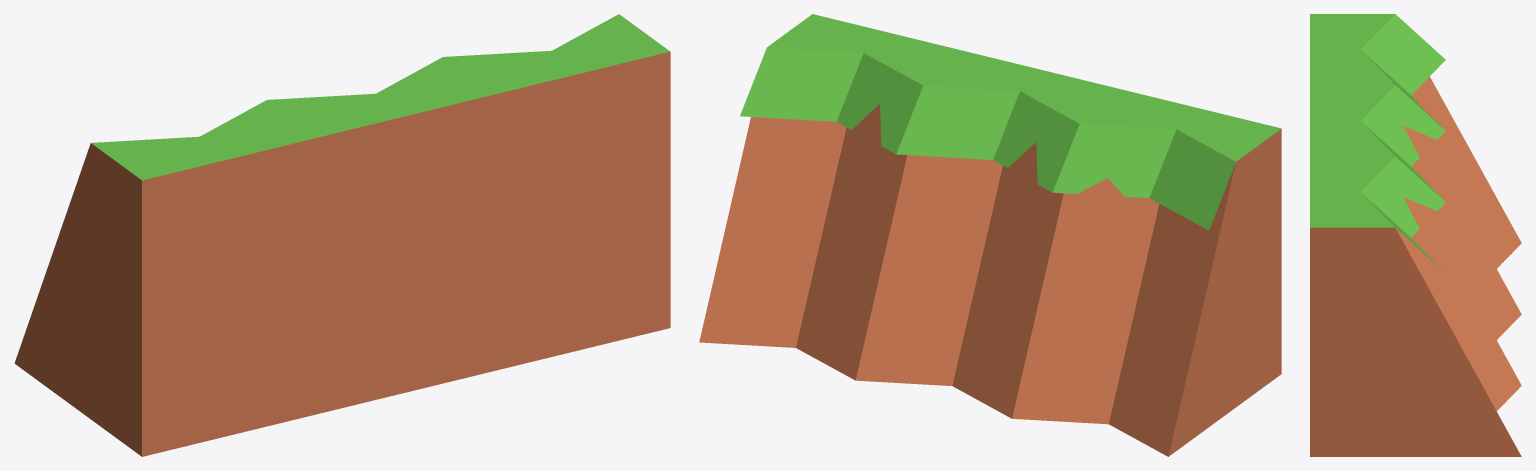
File: cliff_half_rock.glb
3 renders of one model, left to right at view 1: azimuth 30°, elevation 25°; view 2: azimuth 150°, elevation 25°; view 3: azimuth 270°, elevation 25°, orthographic. The views are drawn at different scales.
Visible parts, largest first — view 1: cliff_half_rock; view 2: cliff_half_rock; view 3: cliff_half_rock.
Boxes of the visible parts, <box> form: cliff_half_rock: <box>14,14,670,456</box>; cliff_half_rock: <box>699,14,1281,456</box>; cliff_half_rock: <box>1310,14,1521,456</box>.
Size of the model in its own units: 1 by 0.5 by 0.4185.
